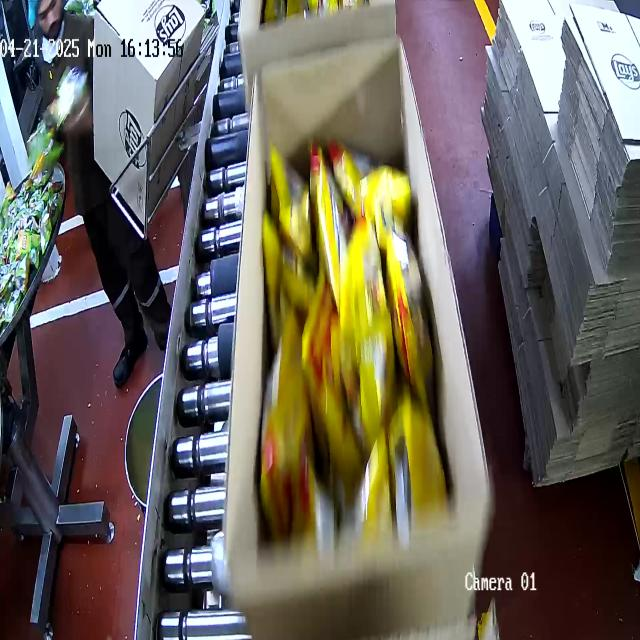SALTED: (256, 121, 455, 524)
